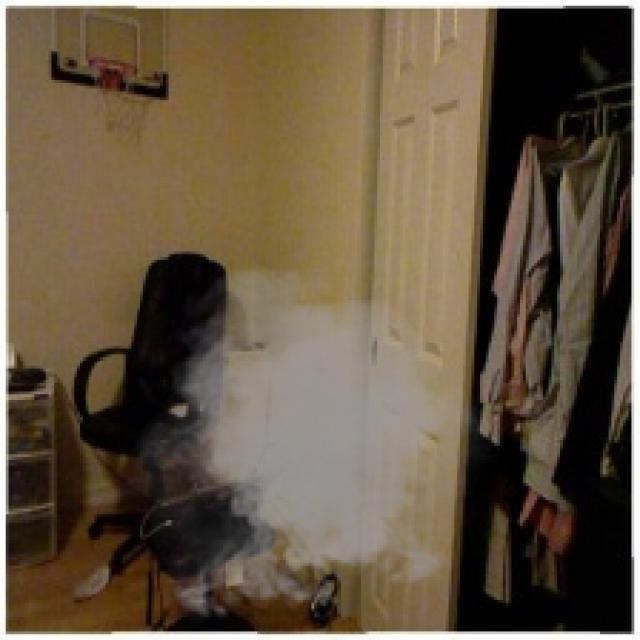Smoke: (117, 260, 500, 629)
